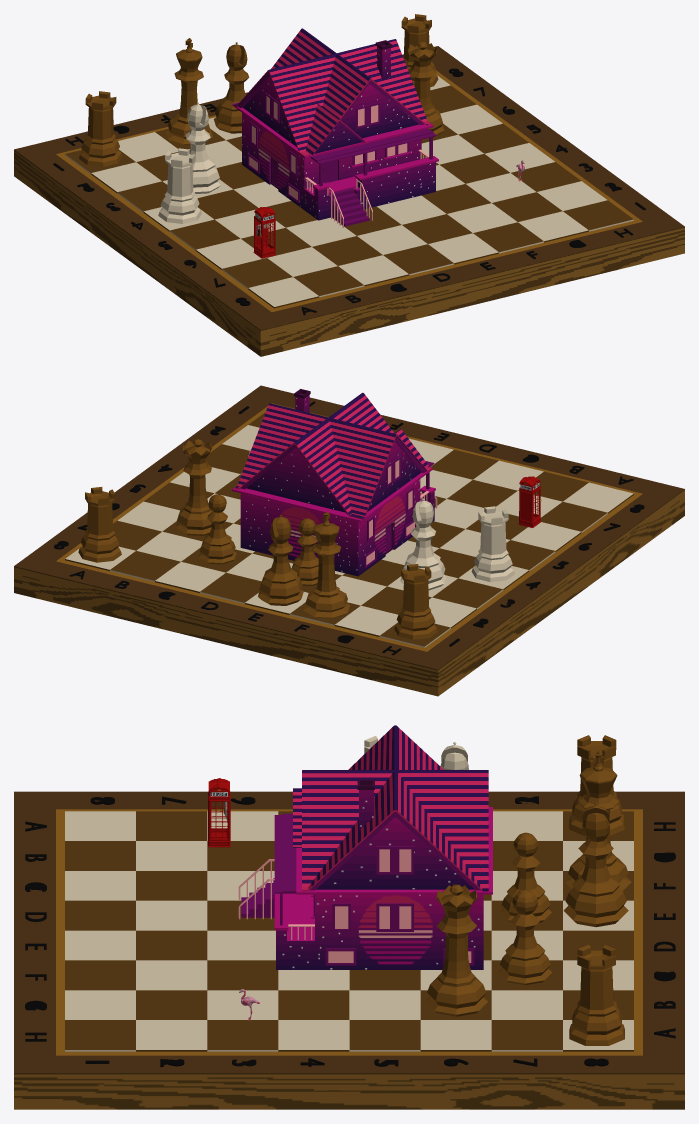
3 views of the same model, one above another, from view 1: azimuth 30°, elevation 25°; view 2: azimuth 150°, elevation 25°; view 3: azimuth 270°, elevation 25° (orthographic). The views are drawn at different scales.
Visible parts, largest first — view 1: Cube.002, Cube.156, OBJRANDOM_PHONEBOOTH; view 2: Cube.002, Cube.156, OBJRANDOM_PHONEBOOTH; view 3: Cube.002, Cube.156, OBJRANDOM_PHONEBOOTH.
Part boxes in pixels (<box>): Cube.002: <box>14,14,684,356</box>; Cube.156: <box>232,28,438,227</box>; OBJRANDOM_PHONEBOOTH: <box>253,207,275,258</box>; Cube.002: <box>14,385,684,696</box>; Cube.156: <box>232,389,437,576</box>; OBJRANDOM_PHONEBOOTH: <box>518,476,541,527</box>; Cube.002: <box>14,735,684,1109</box>; Cube.156: <box>238,725,492,969</box>; OBJRANDOM_PHONEBOOTH: <box>208,778,230,847</box>.
Bounding box in the file's own units: 3981 × 1500 × 4012.
33 materials, 4 textured.
